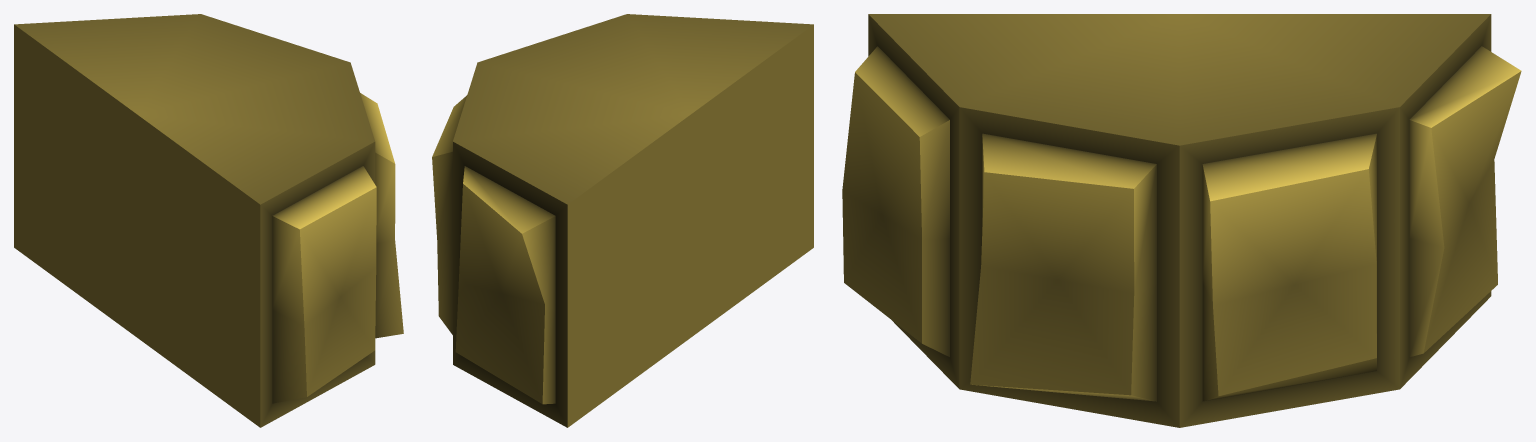
Rendered from HalfCircle1.fbx.
3 renders of one model, left to right at view 1: azimuth 30°, elevation 25°; view 2: azimuth 150°, elevation 25°; view 3: azimuth 270°, elevation 25°, orthographic. The views are drawn at different scales.
Parts seen in each view (by area): view 1: HalfCircle; view 2: HalfCircle; view 3: HalfCircle.
Boxes of the visible parts, x1=… form: HalfCircle: x1=14, y1=14, x2=403, y2=427; HalfCircle: x1=432, y1=14, x2=813, y2=427; HalfCircle: x1=842, y1=14, x2=1521, y2=427.
Size of the model in its own units: 109 by 100 by 218.
